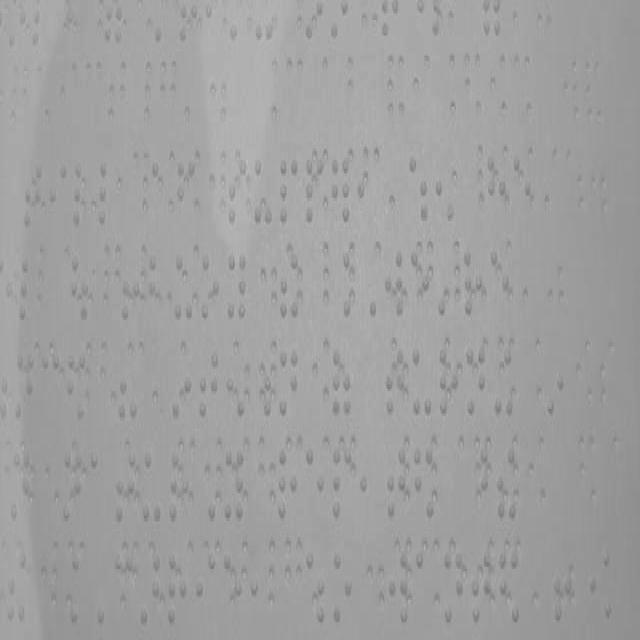braiile: (220, 548, 244, 634), (16, 248, 42, 326), (331, 440, 355, 524), (385, 441, 409, 523), (388, 548, 412, 630), (96, 154, 120, 234), (276, 444, 300, 524), (222, 441, 244, 528), (10, 446, 32, 532), (166, 546, 188, 632), (195, 546, 217, 632), (486, 146, 509, 228), (304, 438, 326, 522), (146, 246, 170, 322), (114, 446, 136, 528), (142, 446, 164, 528), (488, 242, 510, 322), (168, 444, 190, 524), (461, 246, 484, 322), (411, 342, 434, 418), (173, 245, 194, 328), (416, 543, 436, 630), (303, 147, 325, 225), (198, 246, 220, 324), (332, 552, 354, 630), (442, 550, 464, 628), (470, 546, 492, 624), (22, 158, 44, 234), (278, 153, 300, 229), (385, 246, 407, 322), (227, 245, 247, 328), (198, 347, 220, 422), (62, 444, 82, 526), (13, 343, 34, 421), (384, 343, 406, 417), (46, 157, 68, 230), (174, 157, 196, 230), (252, 157, 274, 230), (512, 146, 532, 226), (87, 444, 107, 524), (114, 551, 134, 631), (41, 346, 61, 424), (438, 343, 458, 421), (72, 158, 92, 234), (410, 246, 430, 322), (278, 348, 298, 424), (150, 158, 170, 232), (228, 154, 248, 228), (466, 343, 486, 417), (103, 0, 125, 67), (378, 1, 399, 66), (329, 0, 349, 67), (178, 1, 198, 66), (304, 3, 324, 68), (204, 1, 222, 66)
